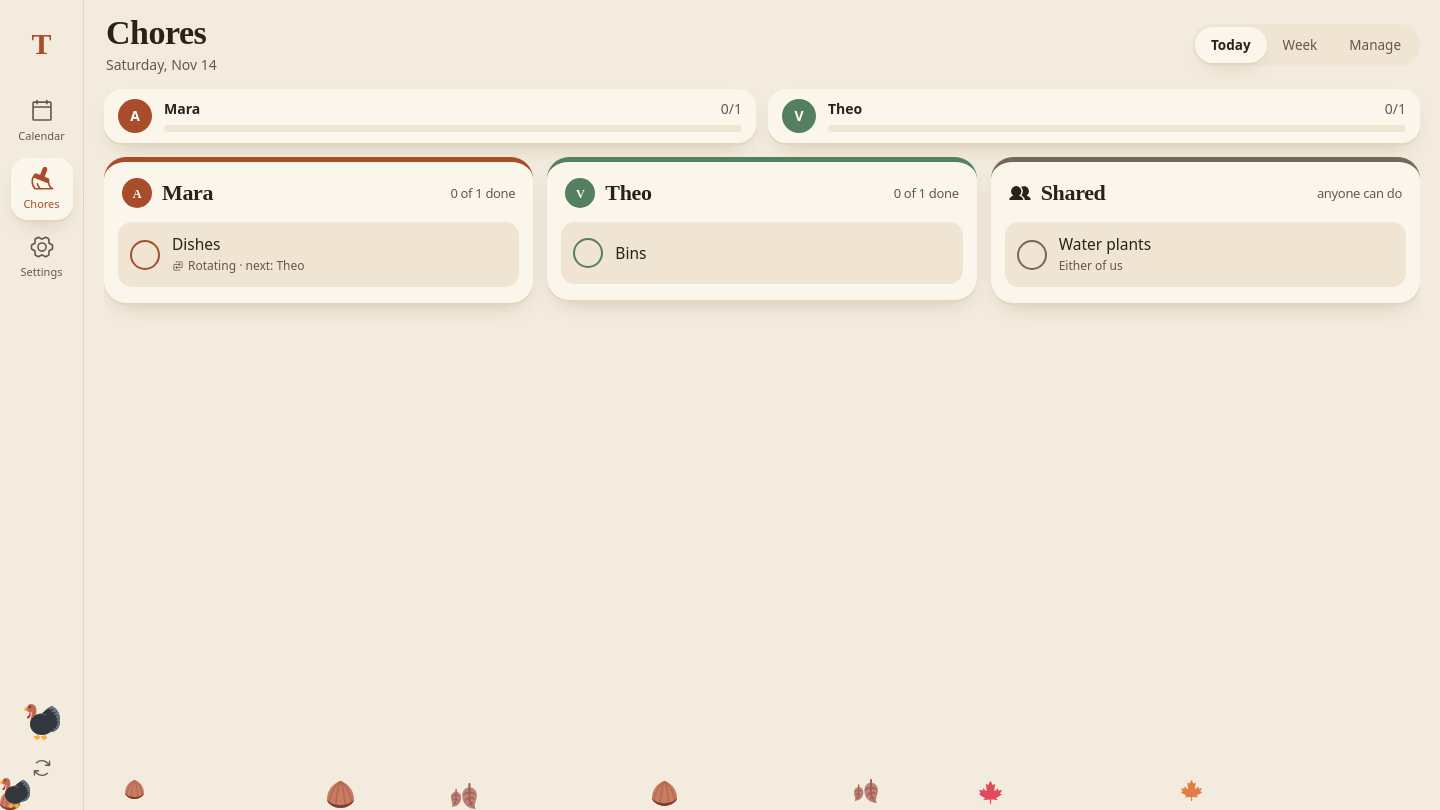
Test case: chores today › confirms with the assignee preselected, checks off, and undoes from the toast
The width and height of the screenshot is (1440, 810).
What coordinates should you click on to do the following:
click the button "Dishes Rotating · next: Theo"
I would click on:
 (196, 244)
Its box is [118,222,519,287].
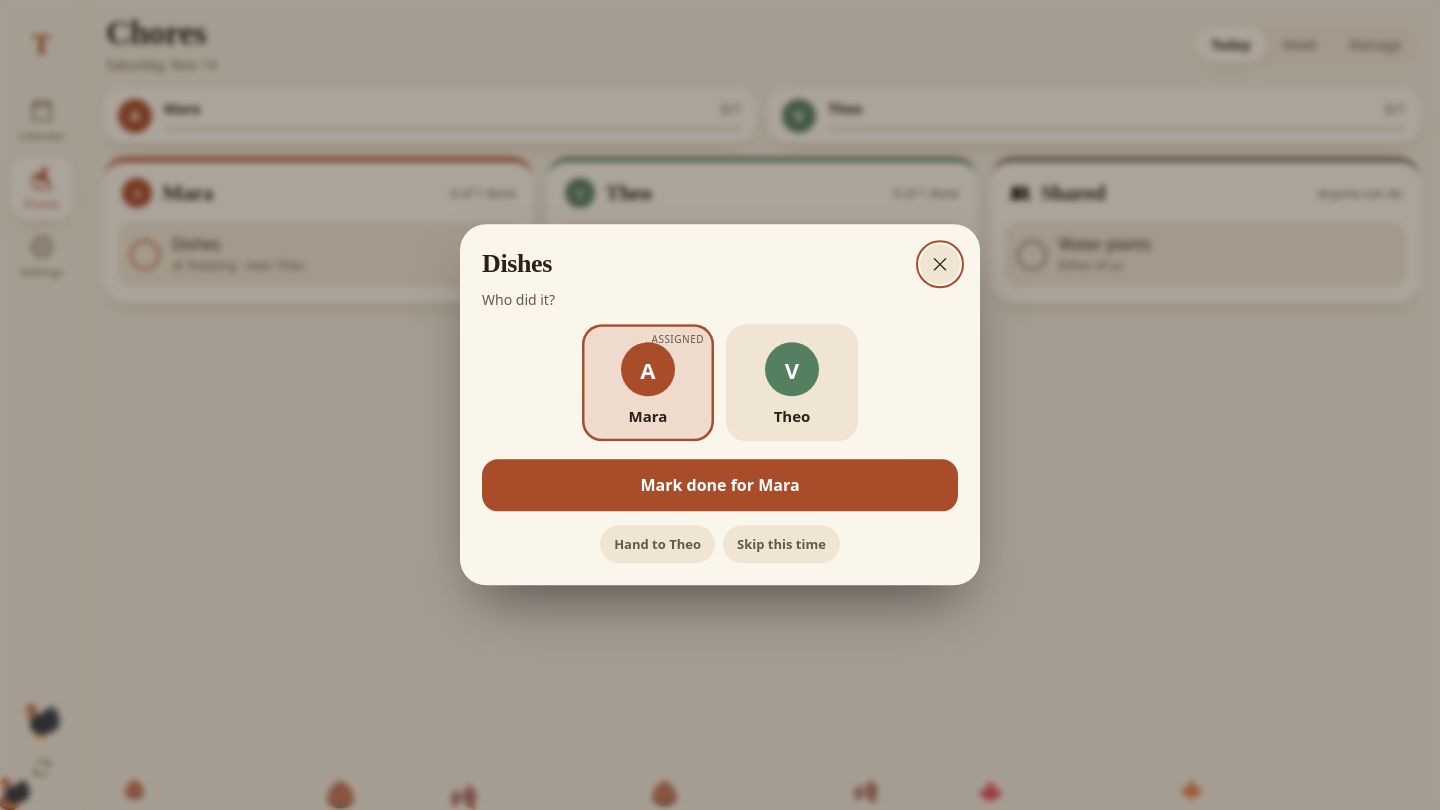
What coordinates should you click on to do the following:
click the button "Mark done for Mara"
I would click on:
 (720, 486)
Its box is [482,459,958,512].
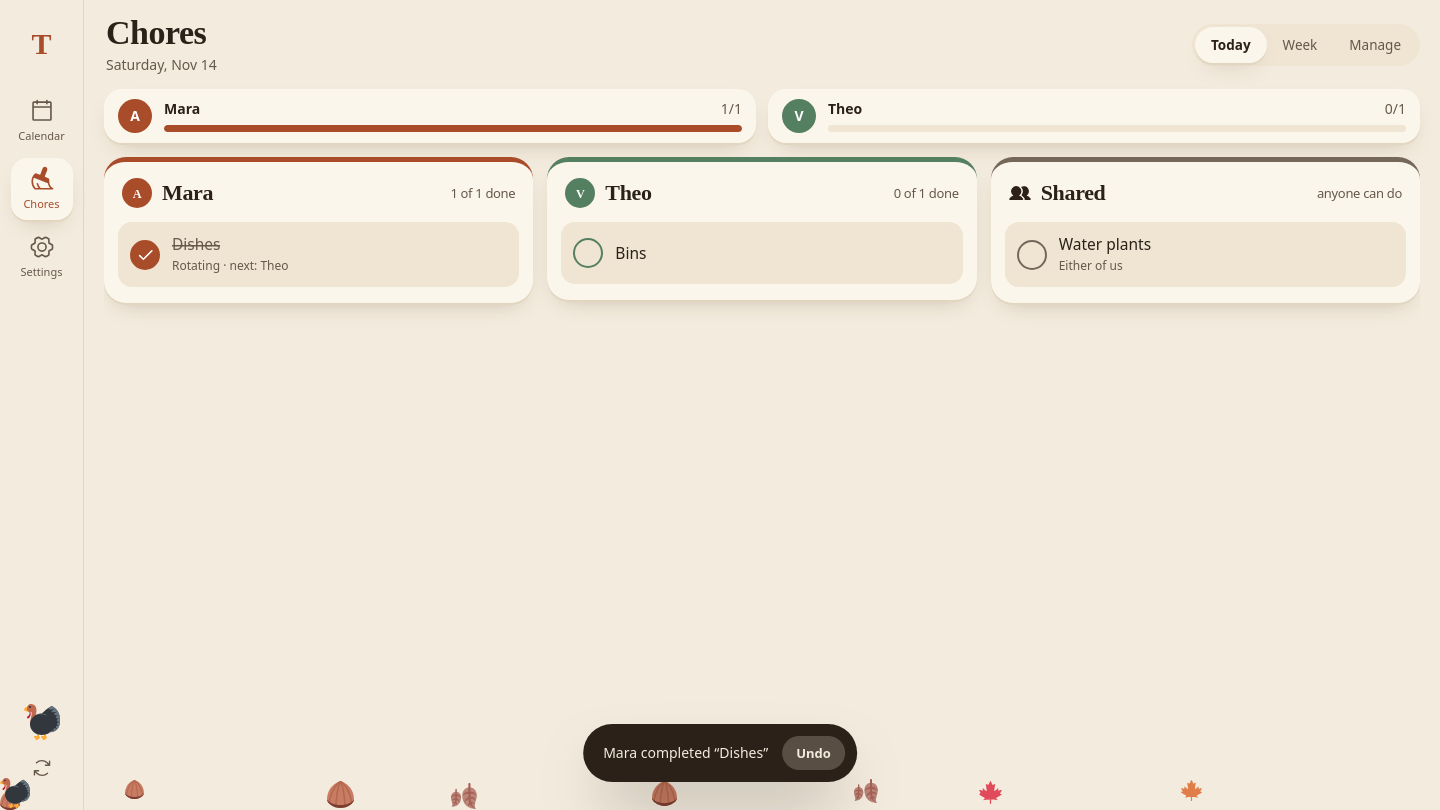
Now the text "Mara completed “Dishes”" is shown, box [603,743,768,763]
What coordinates should you click on to do the following:
click the button "Undo"
I would click on:
 (814, 753)
Its box is [782,736,845,770].
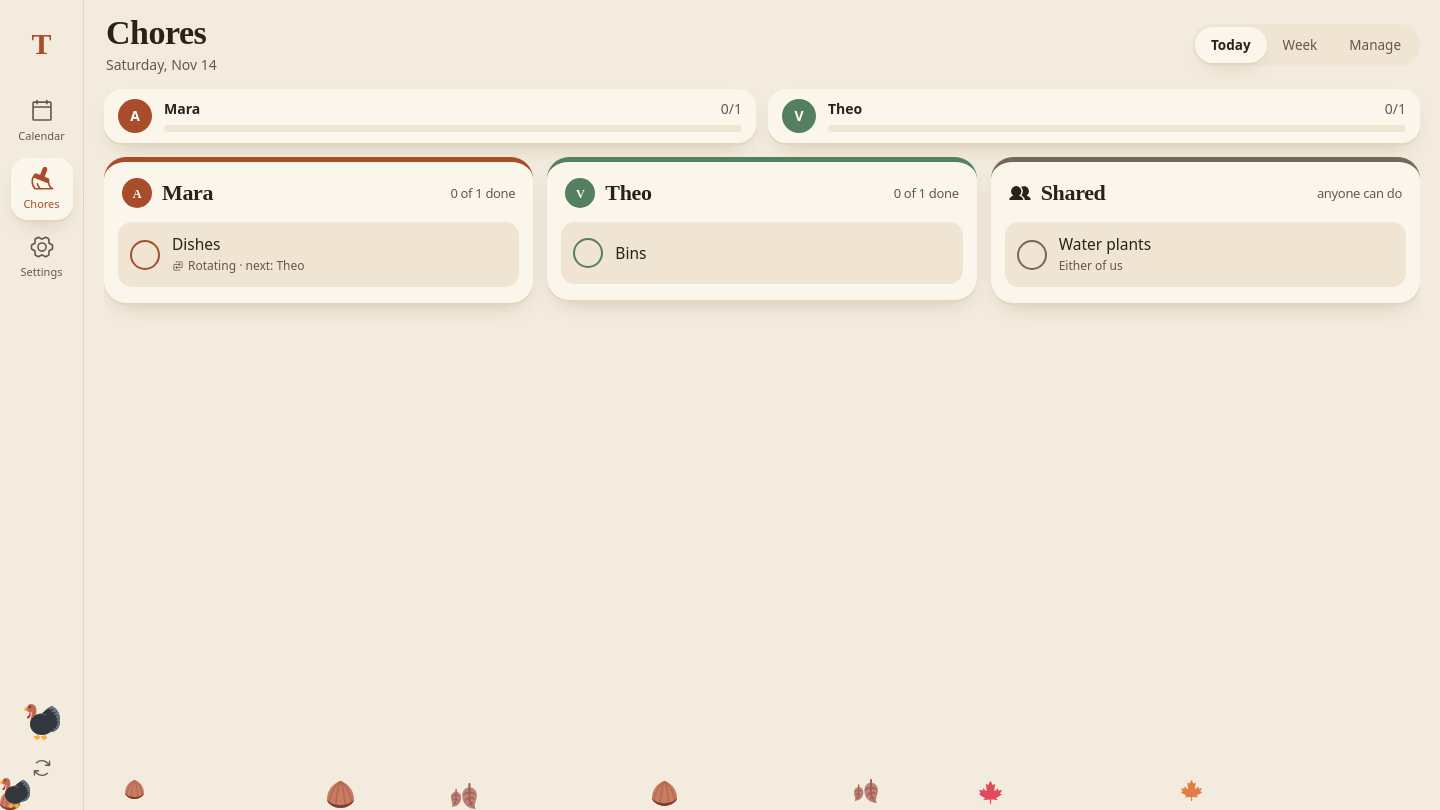
Now the button "Dishes Rotating · next: Theo" is not pressed, box [118,222,519,287]
